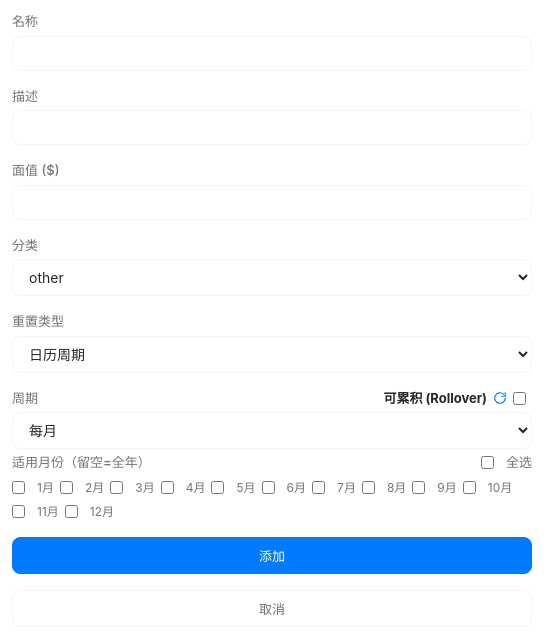
BenefitEditor › shows cooldown field when resetType switches to since_last_use
The image size is (549, 632).
Select "距上次使用" in the dropdown with test id "reset-type-select": point(272, 354) 12,336 -> 532,372
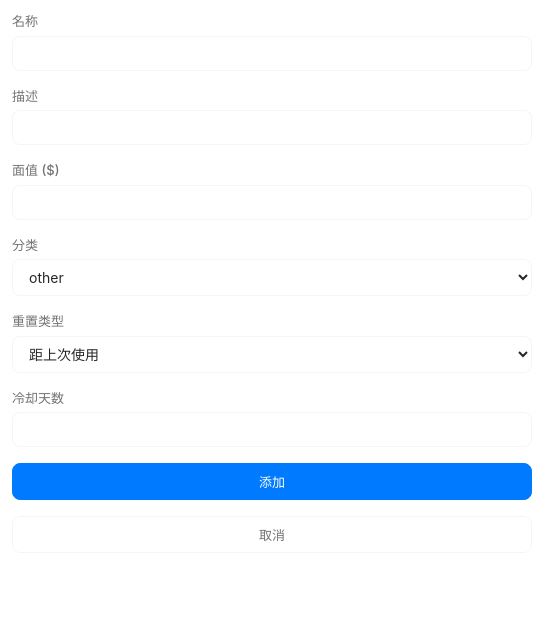
Expected: the text "冷却天数" is shown, 12,388 -> 532,447
Expected: the element with test id "calendar-fields" is gone
